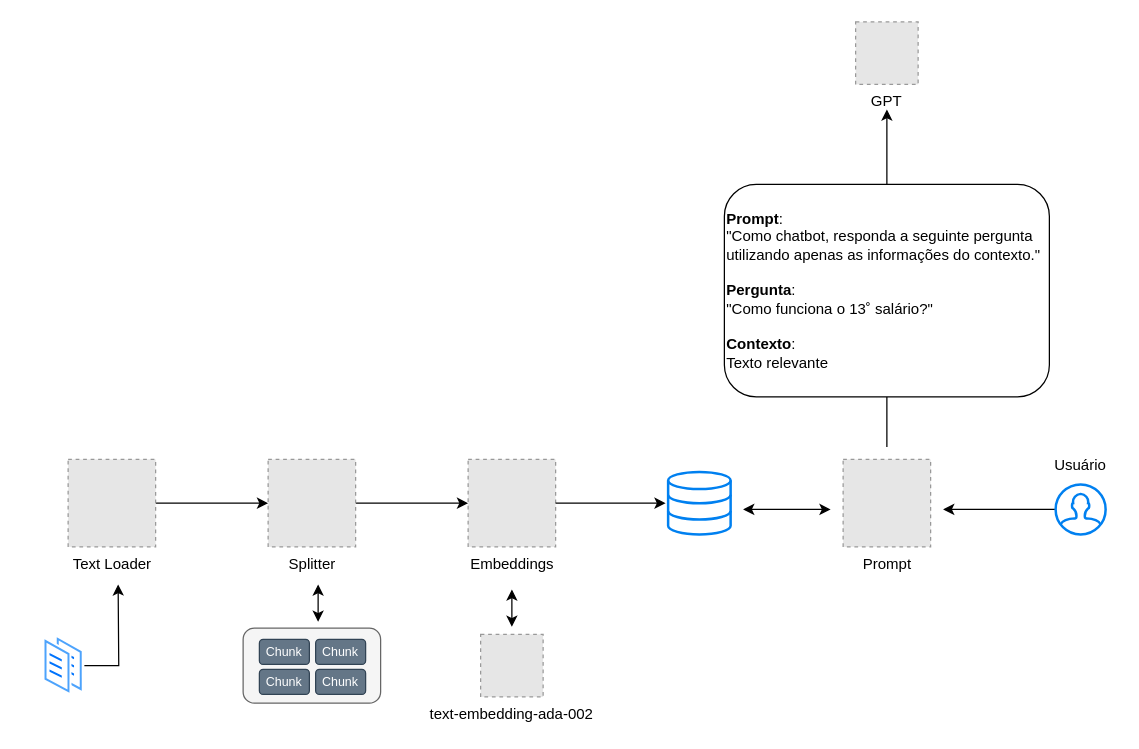
Some shapes in this 1139 by 749 pixel diagram are drawn without their labels. Grey dashed boxes stand in for pictures. The shapes that lost their labels are listed below. From the top down, each one's centre as x and y in pixels, then its label:
At pixel 698 502: "Vector DB".
At pixel 1080 508: "Pergunta".
At pixel 63 665: "Documentos".
